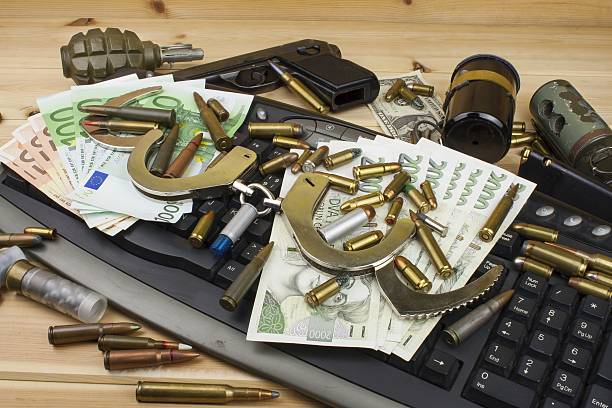e1: (59, 29, 204, 74)
